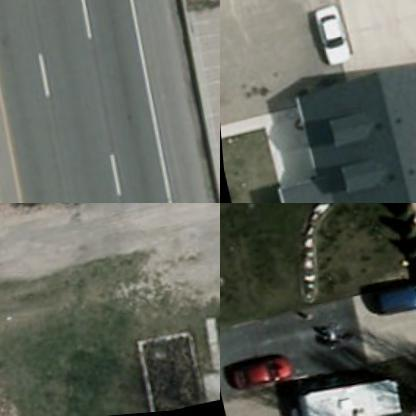camping car: (277, 375, 399, 415)
car: (310, 5, 351, 72), (224, 353, 286, 393), (366, 279, 415, 325)
